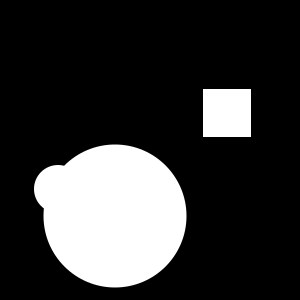circle: (203, 89, 251, 137)
rectangle: (44, 144, 186, 288), (34, 165, 82, 213)
